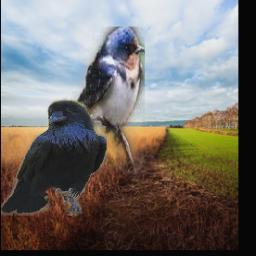Crow: (1, 99, 107, 217)
Swallow: (56, 28, 145, 174)
